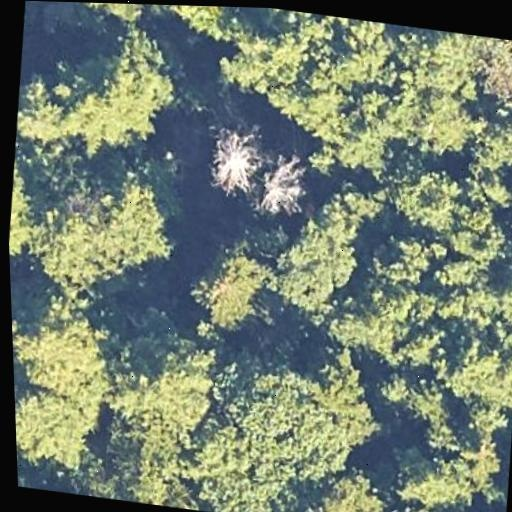tree-top: (221, 339, 390, 492), (21, 153, 180, 300), (39, 7, 194, 156), (219, 6, 357, 140), (100, 324, 233, 447), (11, 287, 130, 409), (386, 420, 511, 512), (184, 229, 282, 338), (269, 211, 370, 316), (316, 277, 423, 372), (14, 378, 106, 473), (436, 225, 512, 340), (318, 15, 407, 99), (183, 438, 283, 512), (364, 216, 448, 304), (398, 84, 482, 168), (388, 160, 474, 240), (105, 427, 188, 509), (281, 455, 398, 512), (330, 84, 399, 175), (396, 26, 485, 96), (445, 326, 512, 418), (14, 69, 80, 150), (5, 143, 50, 258), (35, 1, 180, 36), (197, 125, 262, 195), (255, 152, 313, 220), (462, 101, 512, 179), (460, 34, 512, 104), (170, 5, 247, 47), (370, 363, 410, 408)
